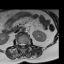CCS_normal: (22, 41, 24, 49)
LFS_stenosis: (25, 42, 27, 47)
LLS_normal: (24, 42, 25, 48)
RFS_stenosis: (18, 42, 20, 46)
RLS_normal: (20, 42, 22, 47)
